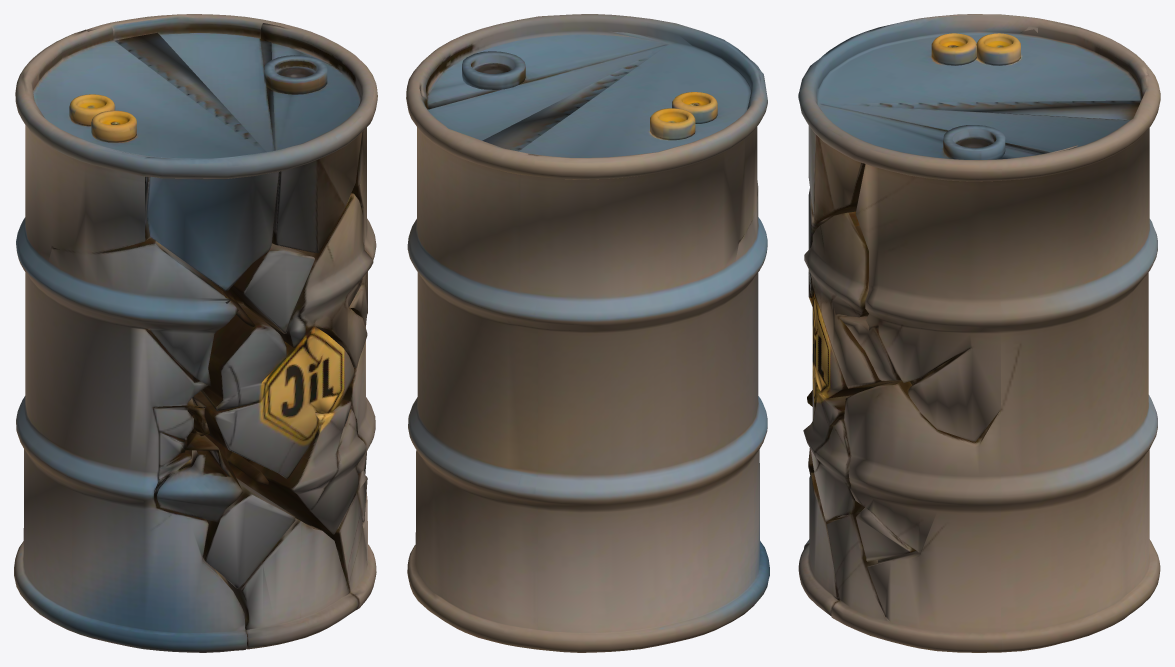
Rendered from crushed_oil_barrel_e450f43f_v3.glb.
The picture shows the model from 3 angles, left to right: view 1: azimuth 30°, elevation 25°; view 2: azimuth 150°, elevation 25°; view 3: azimuth 270°, elevation 25°; orthographic projection.
Visible parts, largest first — view 1: material; view 2: material; view 3: material.
Boxes of the visible parts, x1=… form: material: x1=14, y1=14, x2=377, y2=652; material: x1=406, y1=14, x2=769, y2=652; material: x1=798, y1=14, x2=1160, y2=652.
Bounding box in the file's own units: 1.27 × 1.9 × 1.27.
Materials: 1 (1 with a texture image).
